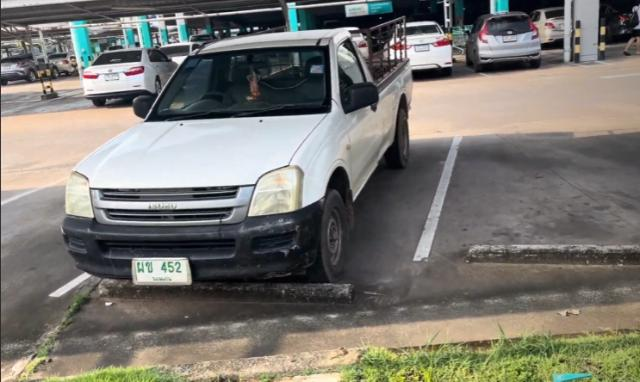car: (81, 43, 171, 107), (462, 12, 548, 72), (385, 17, 458, 74), (0, 52, 60, 85)
pickup-truck: (60, 28, 416, 292)
